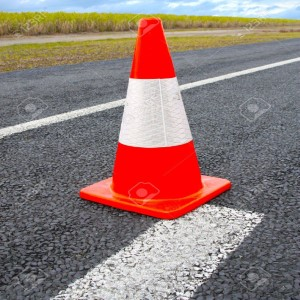traffic cone: (78, 17, 230, 219)
